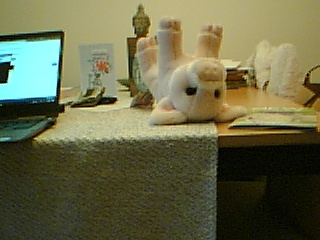piggy: (135, 15, 249, 128)
